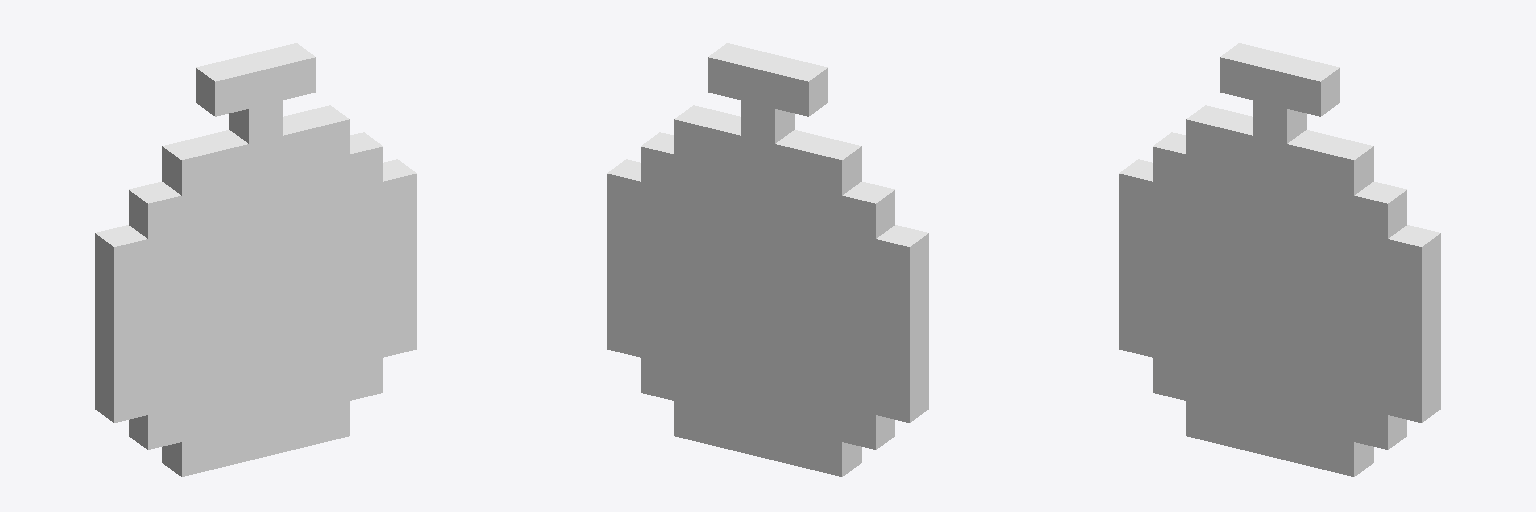
Rendered from Tiempo.obj.
3 renders of one model, left to right at view 1: azimuth 30°, elevation 25°; view 2: azimuth 150°, elevation 25°; view 3: azimuth 330°, elevation 25°, orthographic.
Visible parts, largest first — view 1: object 1; view 2: object 1; view 3: object 1.
Boxes of the visible parts, box(x1,y1,x2,y2) form: object 1: box(95, 43, 416, 476); object 1: box(607, 43, 928, 476); object 1: box(1119, 43, 1440, 476).
Bounding box in the file's own units: 0.9 × 1.1 × 0.1.